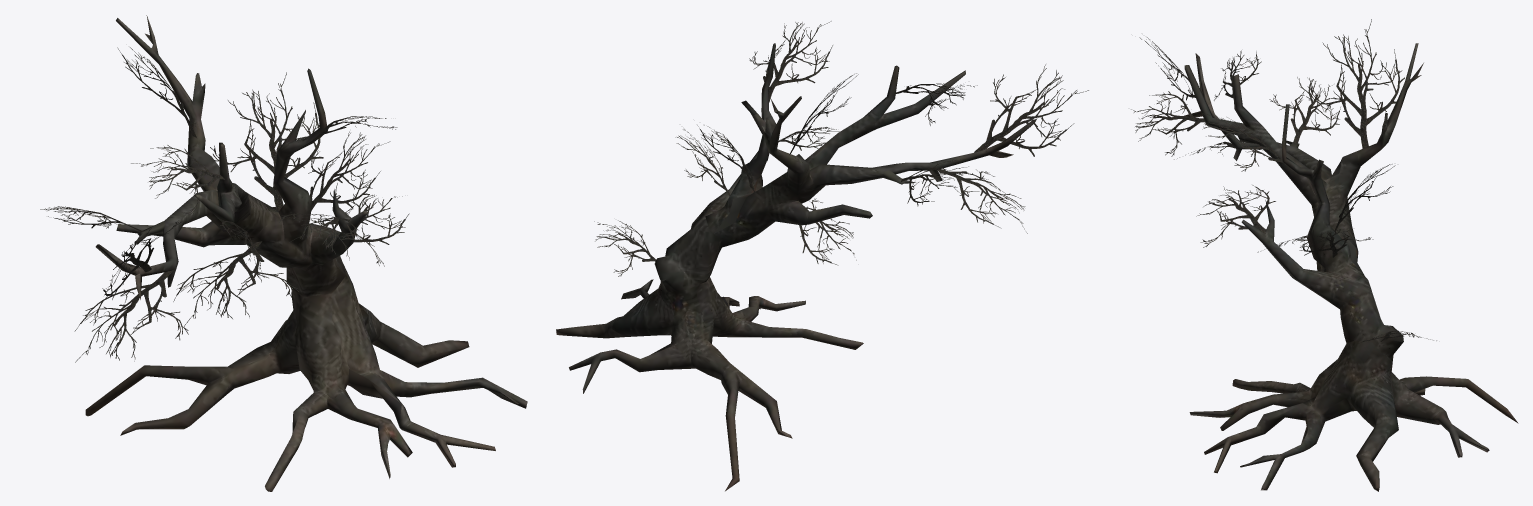
3 views of the same model, side by side, from view 1: azimuth 30°, elevation 25°; view 2: azimuth 150°, elevation 25°; view 3: azimuth 270°, elevation 25° (orthographic). The views are drawn at different scales.
Parts seen in each view (by area): view 1: tree2; view 2: tree2; view 3: tree2.
Boxes of the visible parts, left/top/right/bottom form: tree2: left=40, top=15, right=527, bottom=491; tree2: left=556, top=21, right=1088, bottom=491; tree2: left=1131, top=19, right=1518, bottom=491.
Size of the model in its own units: 8.47 by 7.34 by 6.86.
Materials: 1 (1 with a texture image).
